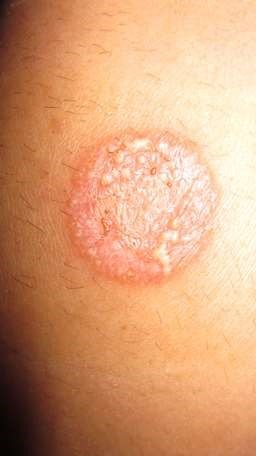Ringworm: (61, 116, 226, 289)
